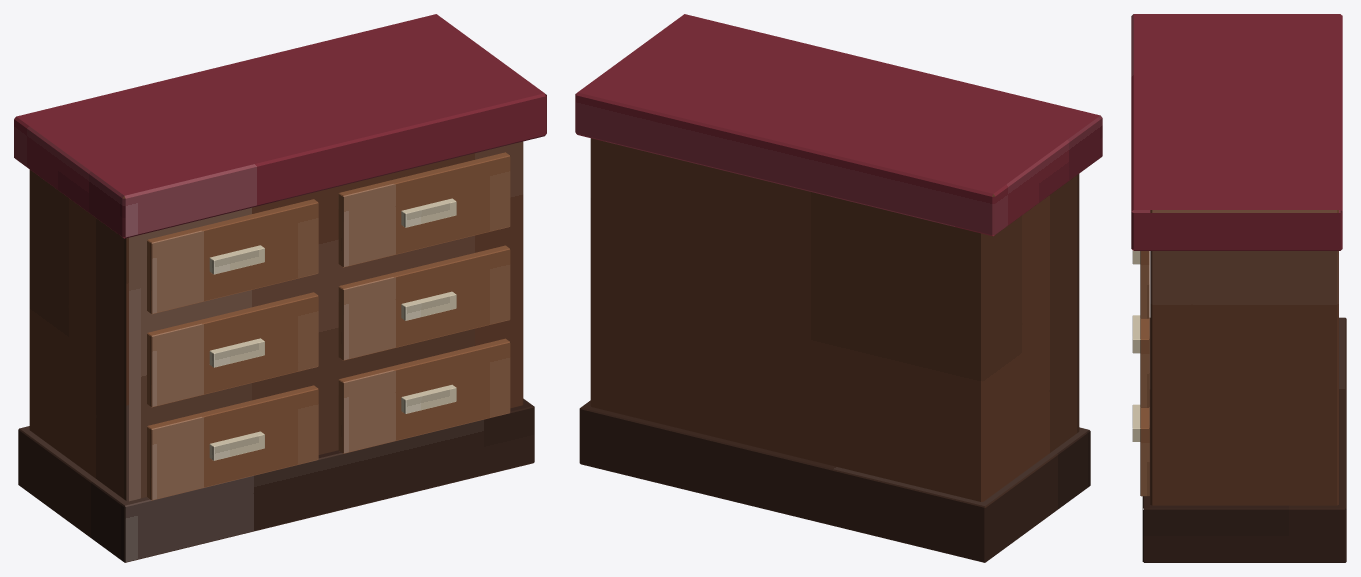
File: bedroom_dresser.glb
3 renders of one model, left to right at view 1: azimuth 30°, elevation 25°; view 2: azimuth 150°, elevation 25°; view 3: azimuth 270°, elevation 25°, orthographic. The views are drawn at different scales.
Visible parts, largest first — view 1: DresserTop, DresserBody, DresserPlinth, DresserDrawer_2_2, DresserDrawer_1_2, DresserDrawer_3_2, DresserDrawer_3_1, DresserDrawer_1_1, DresserDrawer_2_1, DresserHandle_1_1, DresserHandle_2_1, DresserHandle_3_1 (+3 smaller); view 2: DresserBody, DresserTop, DresserPlinth; view 3: DresserTop, DresserBody, DresserPlinth, DresserDrawer_2_2, DresserDrawer_3_2, DresserDrawer_1_2, DresserHandle_2_2, DresserHandle_3_2.
Part boxes in pixels (x1,y1,x2,y2): DresserTop: (14,14,546,238); DresserBody: (29,141,523,506); DresserPlinth: (18,398,534,562); DresserDrawer_2_2: (338,245,510,360); DresserDrawer_1_2: (338,152,510,267); DresserDrawer_3_2: (338,338,510,453); DresserDrawer_3_1: (147,385,318,500); DresserDrawer_1_1: (147,199,318,314); DresserDrawer_2_1: (147,292,318,407); DresserHandle_1_1: (209,245,264,274); DresserHandle_2_1: (209,338,264,367); DresserHandle_3_1: (209,431,264,460); DresserBody: (590,138,1079,507); DresserTop: (575,14,1102,236); DresserPlinth: (579,400,1090,562); DresserTop: (1131,14,1342,250); DresserBody: (1150,210,1338,505); DresserPlinth: (1142,317,1346,562); DresserDrawer_2_2: (1140,318,1149,407); DresserDrawer_3_2: (1140,407,1149,496); DresserDrawer_1_2: (1140,251,1149,318); DresserHandle_2_2: (1132,316,1140,353); DresserHandle_3_2: (1132,404,1140,441).
Bounding box in the file's own units: 1.24 × 1.04 × 0.57.
1 material, 1 textured.
